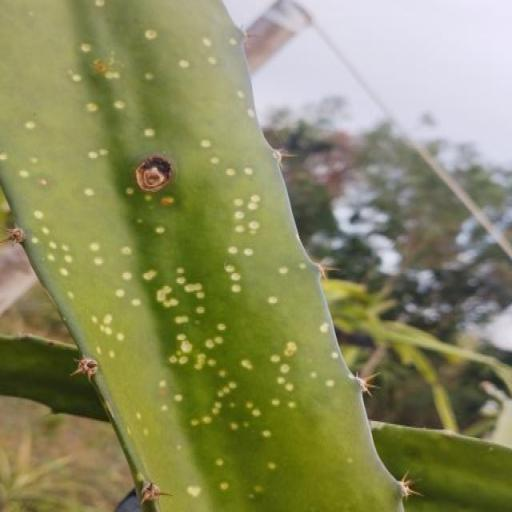stemcanker: (91, 58, 112, 84), (142, 26, 166, 44), (66, 68, 86, 88), (82, 98, 102, 117), (154, 376, 170, 399), (240, 162, 259, 180), (77, 37, 93, 58), (30, 206, 48, 224), (82, 184, 100, 202), (247, 218, 264, 237), (109, 96, 129, 112), (244, 104, 258, 126), (20, 115, 37, 133), (142, 123, 158, 142), (84, 145, 100, 164), (197, 135, 215, 151), (120, 242, 136, 260), (36, 174, 53, 190), (274, 261, 290, 278), (284, 398, 300, 415), (142, 68, 160, 83), (158, 193, 176, 208), (266, 458, 281, 476), (178, 58, 194, 74), (56, 264, 72, 280), (264, 294, 282, 308), (17, 166, 32, 182), (154, 223, 169, 239), (252, 480, 267, 496), (268, 395, 283, 411), (325, 376, 339, 393), (38, 224, 54, 238), (120, 268, 134, 284), (240, 244, 256, 258), (228, 283, 244, 297), (225, 33, 238, 49), (234, 85, 246, 102), (107, 346, 119, 363), (91, 0, 111, 10), (111, 68, 125, 82), (97, 146, 111, 160), (88, 238, 102, 252), (249, 190, 263, 204), (278, 361, 292, 375), (47, 238, 60, 253), (259, 428, 274, 441), (226, 242, 238, 258), (222, 262, 238, 274), (317, 320, 329, 336), (203, 334, 214, 351), (58, 240, 71, 254), (62, 252, 75, 266), (267, 352, 281, 365), (157, 402, 170, 416), (206, 55, 218, 70), (173, 392, 188, 404), (232, 194, 244, 209), (44, 250, 57, 263), (328, 350, 341, 363), (296, 260, 309, 273), (200, 35, 214, 47), (102, 311, 114, 325), (116, 332, 128, 346), (206, 354, 218, 368), (246, 202, 260, 214), (216, 481, 230, 493), (227, 420, 241, 432), (113, 288, 128, 299), (88, 308, 98, 324), (30, 235, 42, 248), (233, 209, 246, 221), (251, 408, 264, 420), (216, 366, 228, 379), (201, 415, 213, 428), (232, 223, 246, 234), (173, 264, 189, 273), (214, 334, 226, 346), (66, 287, 77, 300), (225, 165, 236, 178), (214, 454, 225, 467), (175, 331, 189, 341), (168, 352, 178, 366), (217, 320, 228, 332), (310, 367, 320, 380), (190, 415, 200, 428), (95, 343, 104, 357), (284, 383, 295, 394), (196, 305, 206, 317), (230, 272, 242, 282), (276, 374, 286, 386), (210, 154, 220, 165), (124, 186, 134, 197), (243, 398, 253, 409), (196, 290, 207, 300), (179, 355, 189, 365), (0, 150, 10, 160), (212, 406, 220, 418), (132, 298, 140, 308), (176, 276, 186, 284), (228, 381, 238, 389), (222, 386, 232, 394), (214, 400, 222, 410), (216, 390, 225, 398)
